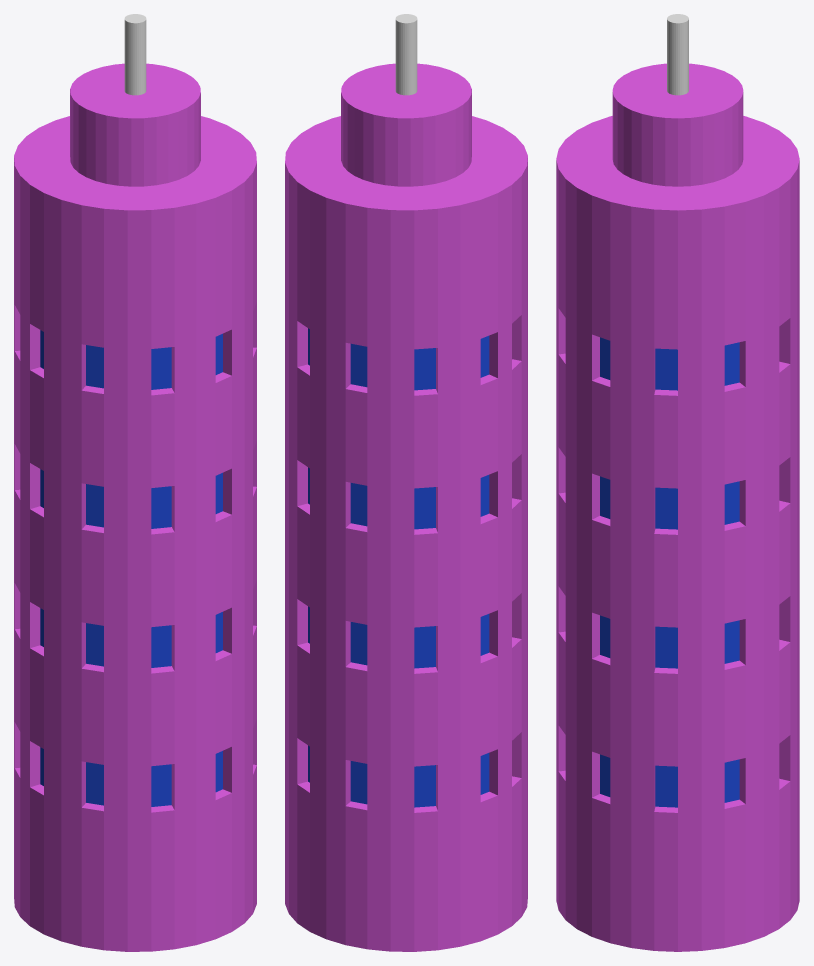
File: skyscrapers2.fbx
3 views of the same model, side by side, from view 1: azimuth 30°, elevation 25°; view 2: azimuth 150°, elevation 25°; view 3: azimuth 270°, elevation 25° (orthographic).
Visible parts, largest first — view 1: Cylinder; view 2: Cylinder; view 3: Cylinder.
Boxes of the visible parts, x1=… form: Cylinder: x1=14, y1=14, x2=256, y2=951; Cylinder: x1=285, y1=14, x2=527, y2=951; Cylinder: x1=556, y1=14, x2=799, y2=951.
Bounding box in the file's own units: 3.65 × 14.58 × 3.65.
